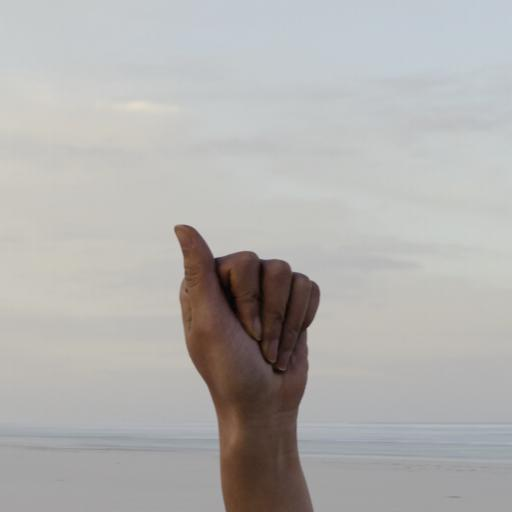A: (168, 218, 326, 426)
